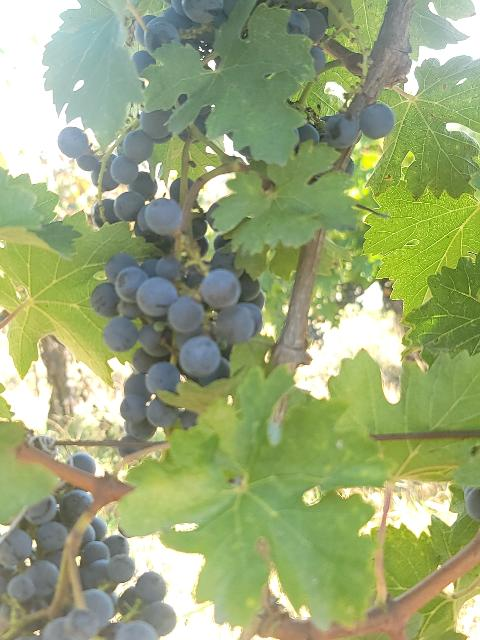grapes: (90, 254, 261, 440), (0, 481, 176, 640)
